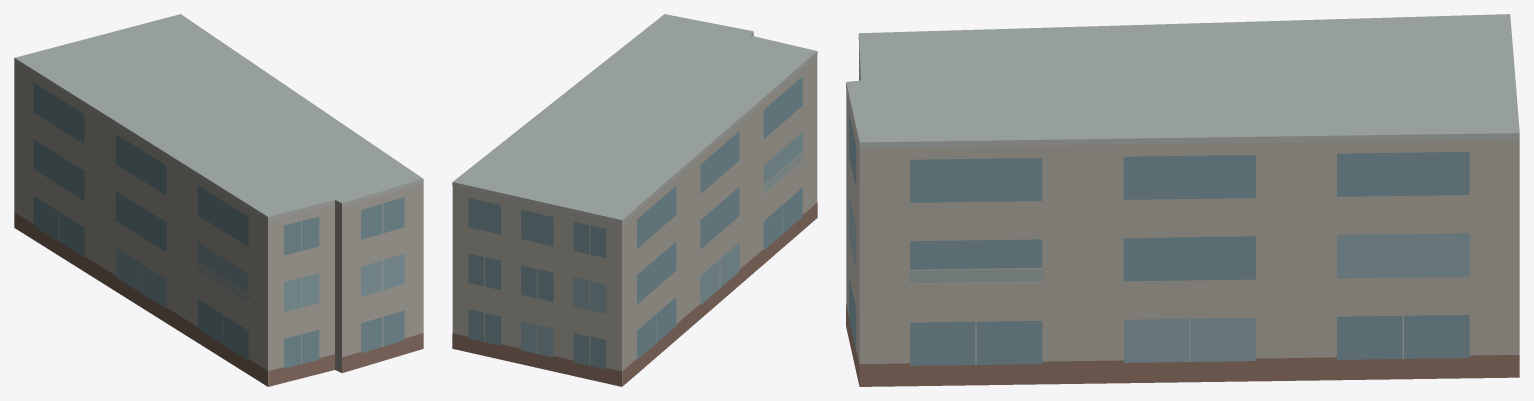
The model's file is survey-upis-32725047.glb.
The picture shows the model from 3 angles, left to right: view 1: azimuth 30°, elevation 25°; view 2: azimuth 150°, elevation 25°; view 3: azimuth 270°, elevation 25°; orthographic projection. The views are drawn at different scales.
Parts seen in each view (by area): view 1: survey-upis-32725047.tmp; view 2: survey-upis-32725047.tmp; view 3: survey-upis-32725047.tmp.
Part boxes in pixels (x1,y1,x2,y2): survey-upis-32725047.tmp: [14, 14, 423, 386]; survey-upis-32725047.tmp: [452, 14, 817, 386]; survey-upis-32725047.tmp: [846, 14, 1519, 386].
Bounding box in the file's own units: 11.04 × 9.8 × 24.48.
